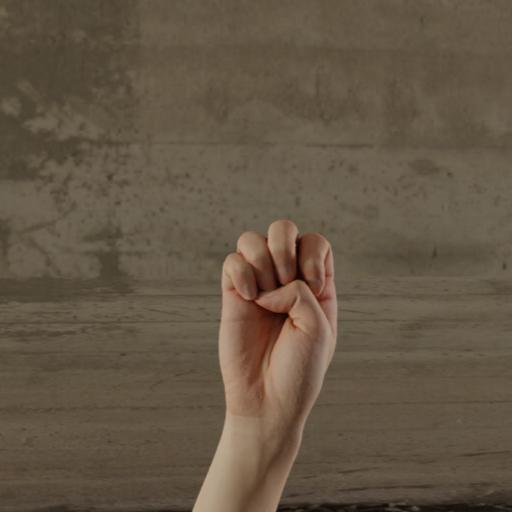E: (202, 216, 343, 434)
